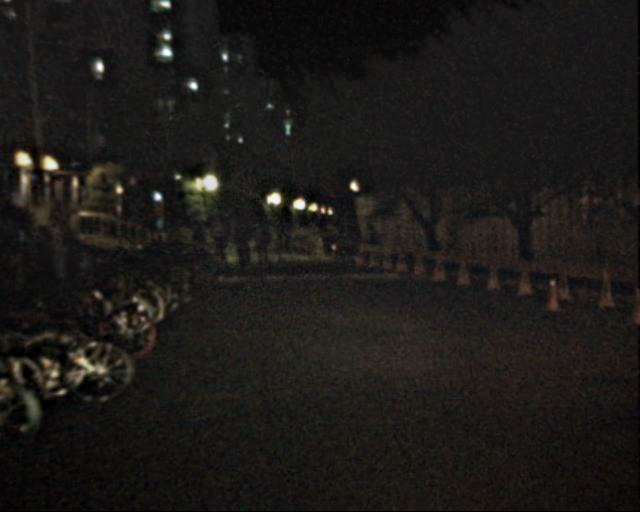person: (44, 225, 68, 284), (236, 222, 256, 270), (72, 230, 91, 277), (250, 220, 269, 267), (226, 217, 245, 263), (362, 221, 381, 267), (191, 222, 209, 265), (211, 219, 227, 259), (276, 223, 294, 253)
